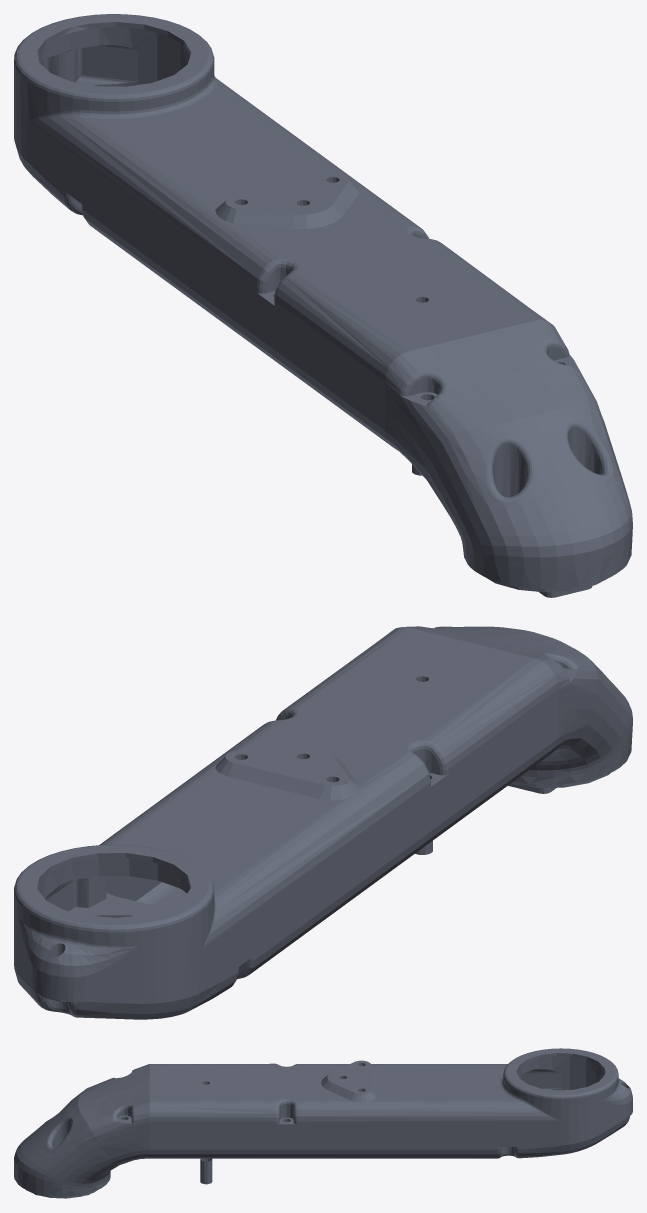
File: solo_upper_leg_18.obj
The picture shows the model from 3 angles, top to bottom: view 1: azimuth 30°, elevation 25°; view 2: azimuth 150°, elevation 25°; view 3: azimuth 270°, elevation 25°; orthographic projection. The views are drawn at different scales.
Bounding box in the file's own units: 0.037 × 0.0415 × 0.1986.
